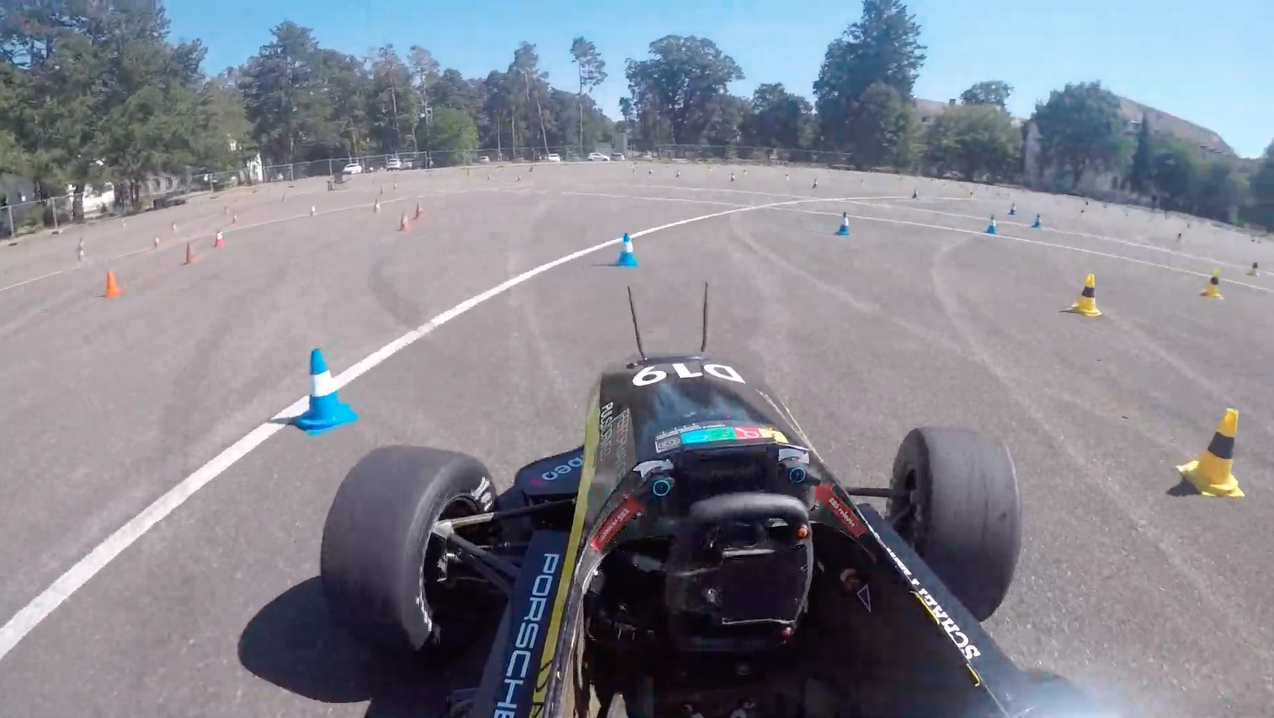lcone: (293, 343, 362, 434), (612, 230, 643, 270), (832, 208, 856, 238)
rcone: (1169, 404, 1251, 501), (1068, 270, 1105, 319), (1198, 264, 1228, 302)
